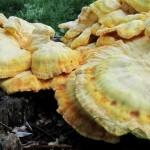Sulphur-yellow tinder fungus: (0, 0, 149, 142)
